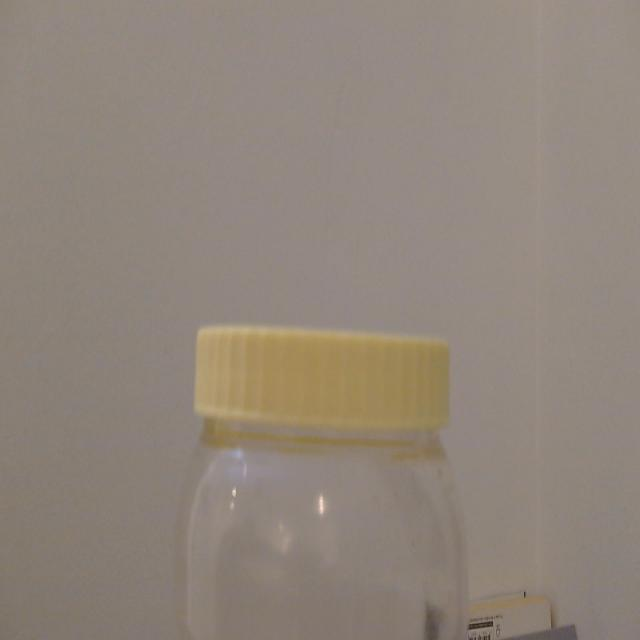cap: (162, 295, 482, 465)
